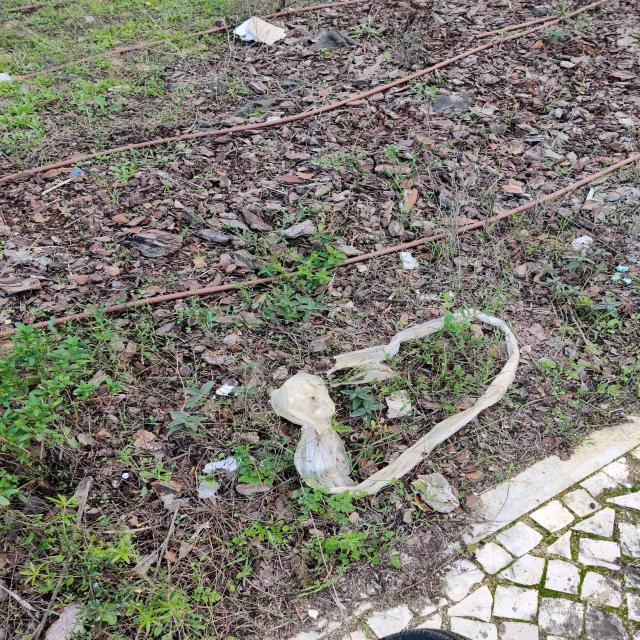litter: (261, 305, 531, 510)
